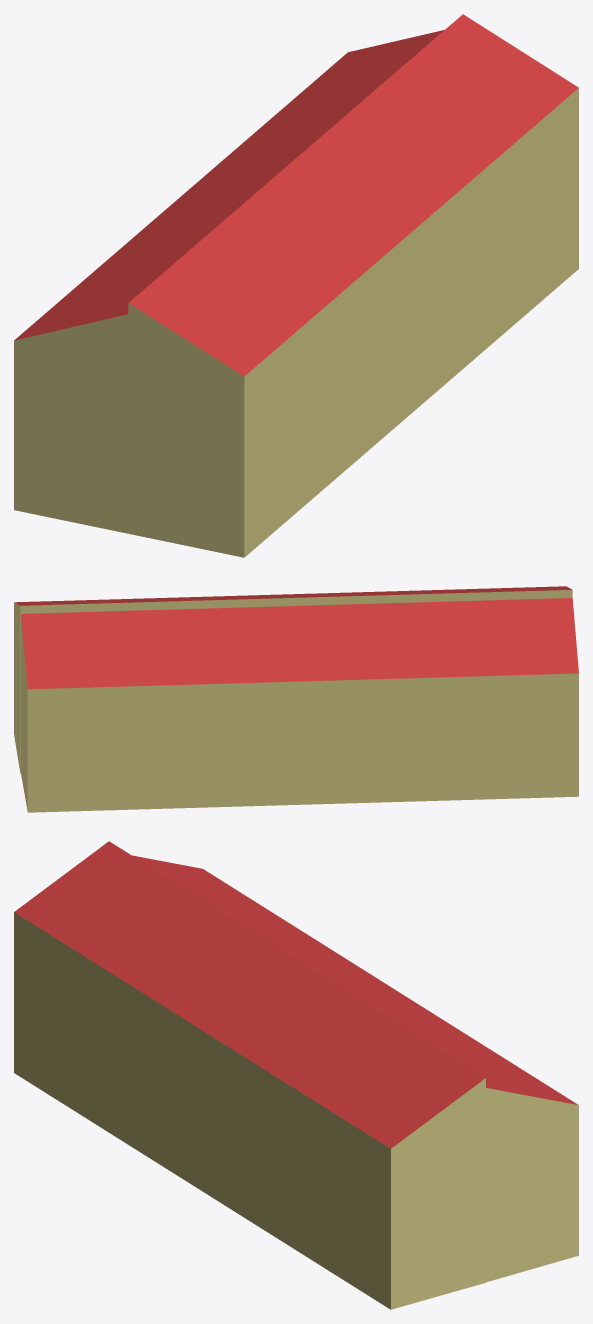
3 views of the same model, one above another, from view 1: azimuth 30°, elevation 25°; view 2: azimuth 150°, elevation 25°; view 3: azimuth 270°, elevation 25° (orthographic). The views are drawn at different scales.
Size of the model in its own units: 22.65 by 18.61 by 7.45.
